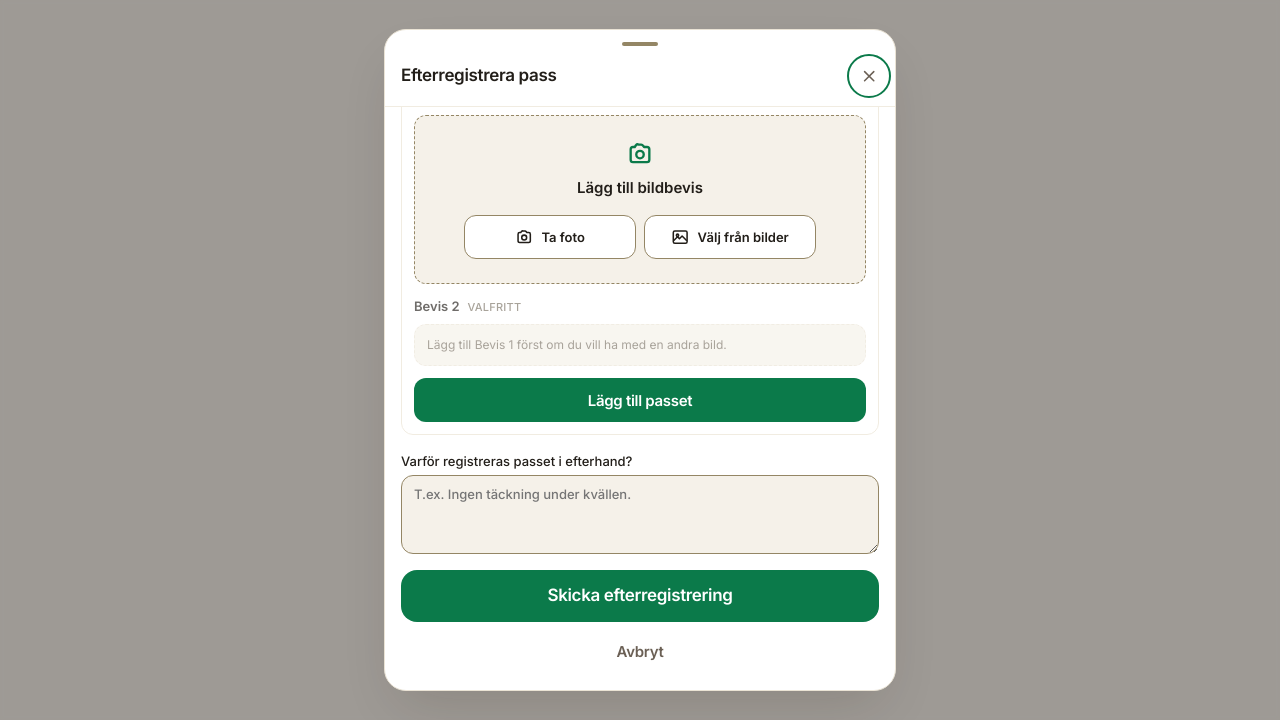
Test case: RetroactiveRequestSheet › requires a reason before submitting
(page scrolled)
Note: No session, no reason yet.
Click the button "Skicka efterregistrering" at x=640, y=596, box [401,570,879,622]
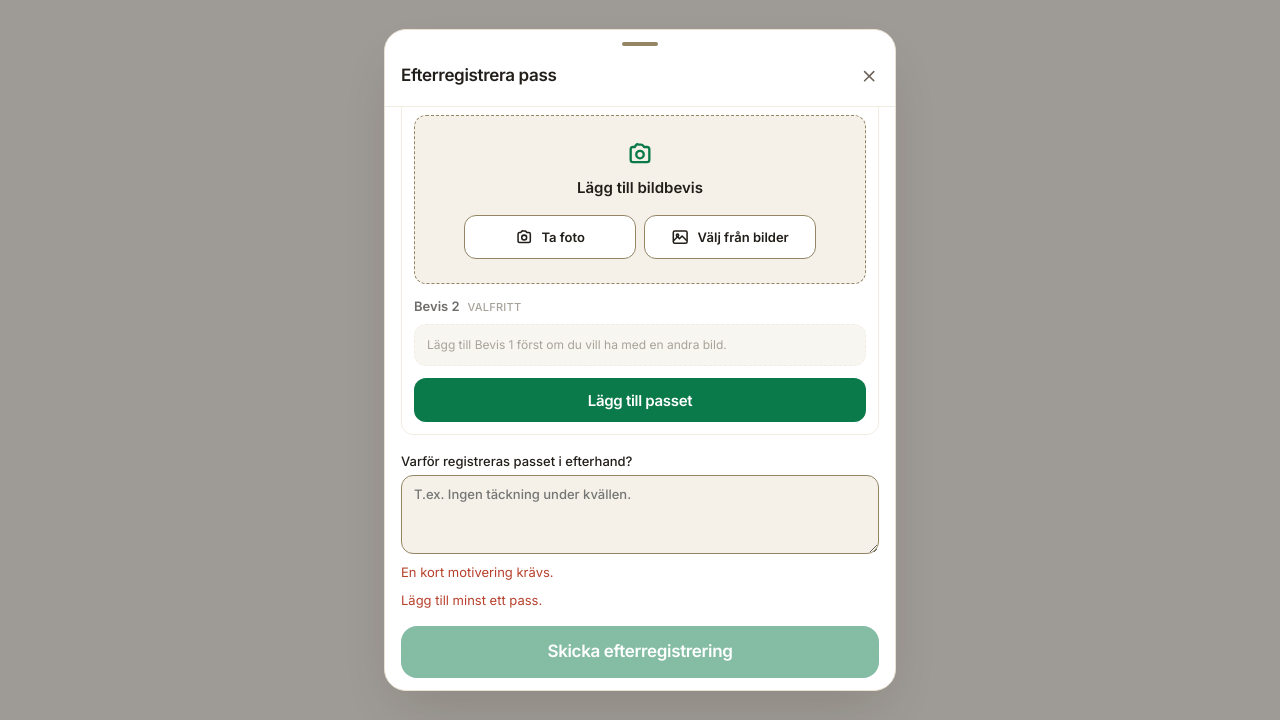
expect the text "En kort motivering krävs." is shown: met, box [401,564,554,580]
expect the text "Lägg till minst ett pass." is shown: met, box [401,592,542,608]
